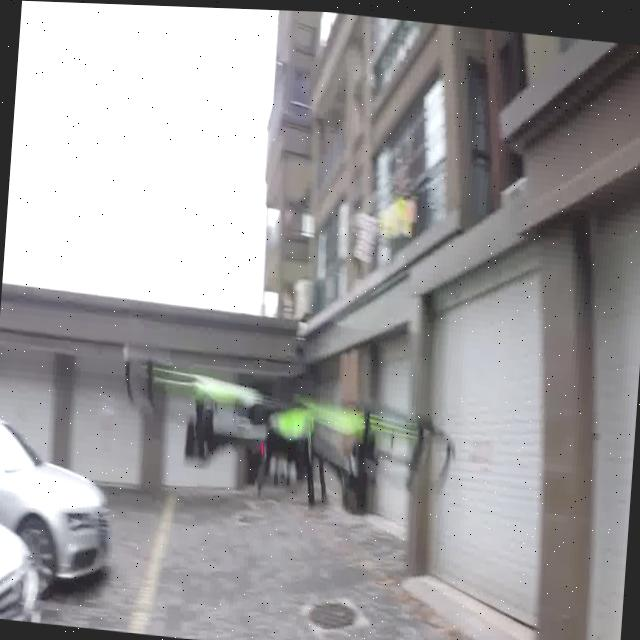drone: (115, 357, 457, 503)
